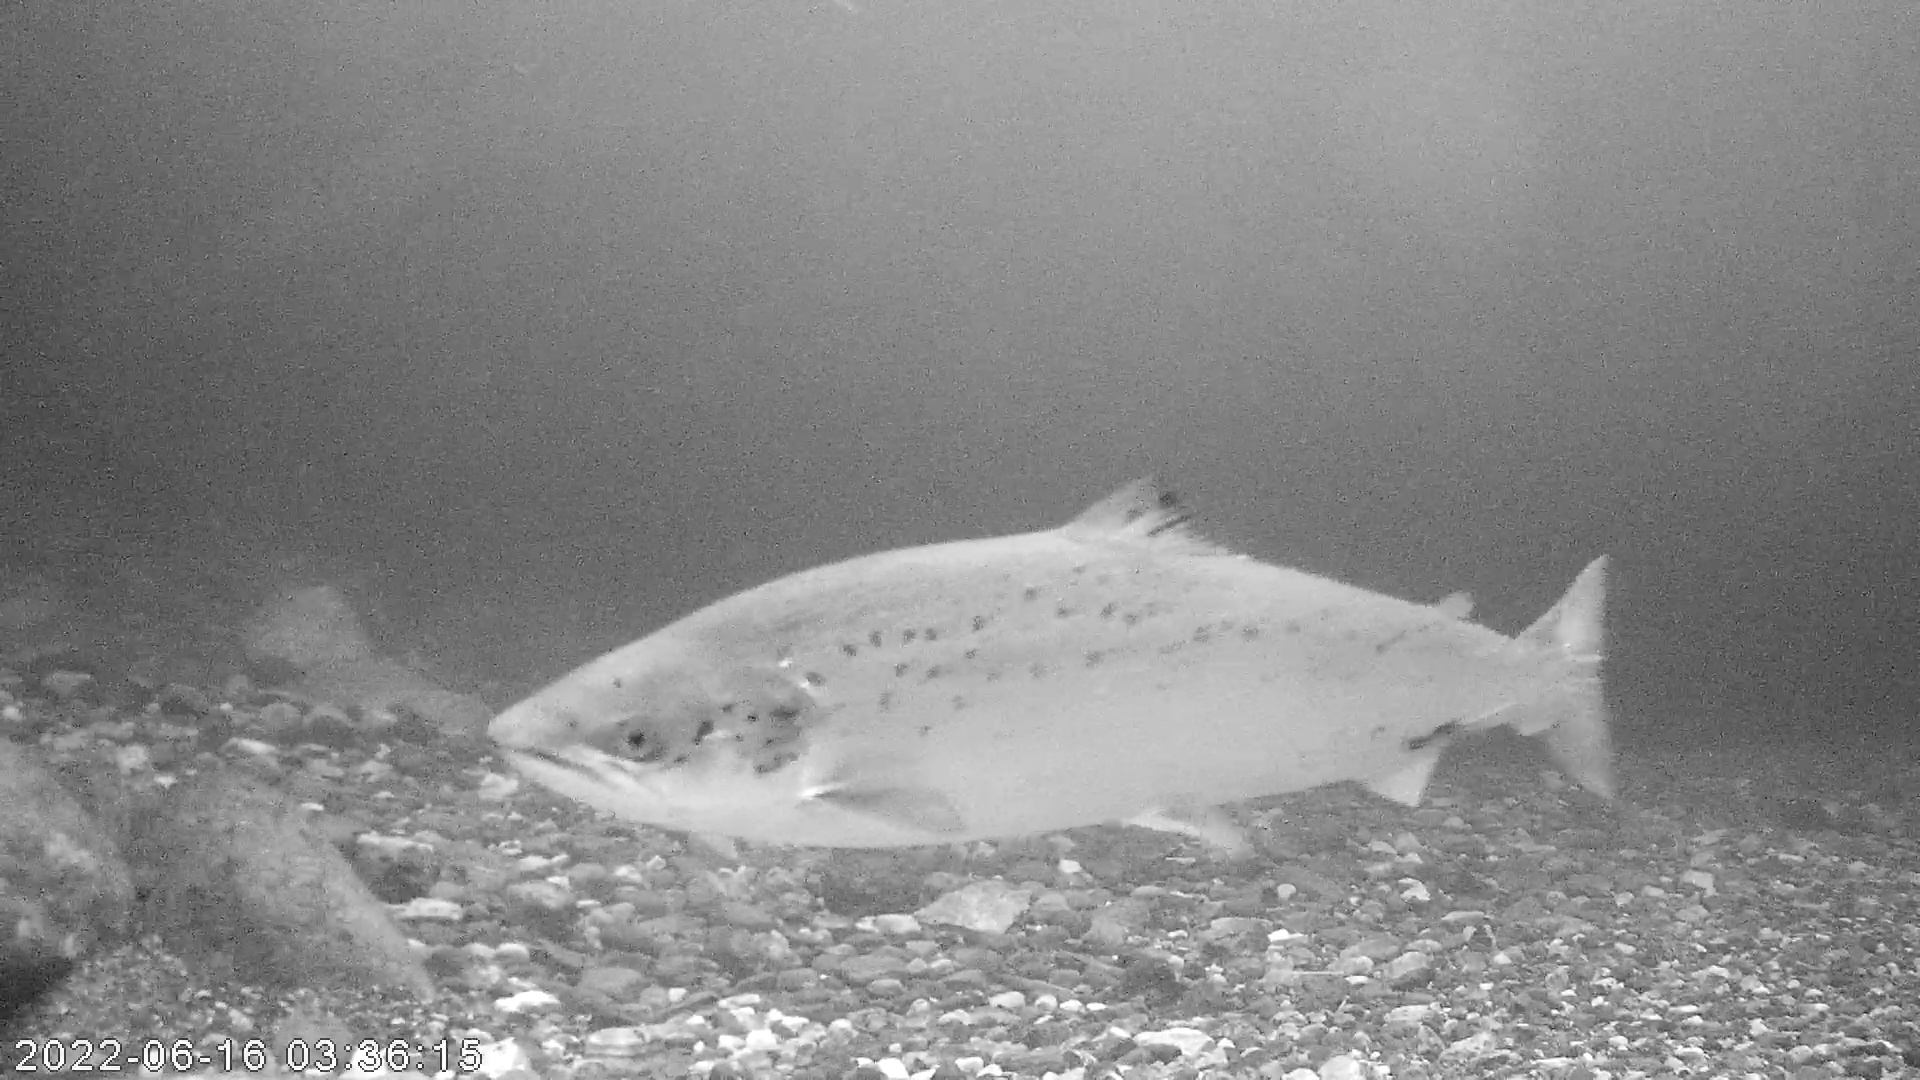salmon: (489, 469, 1627, 855)
